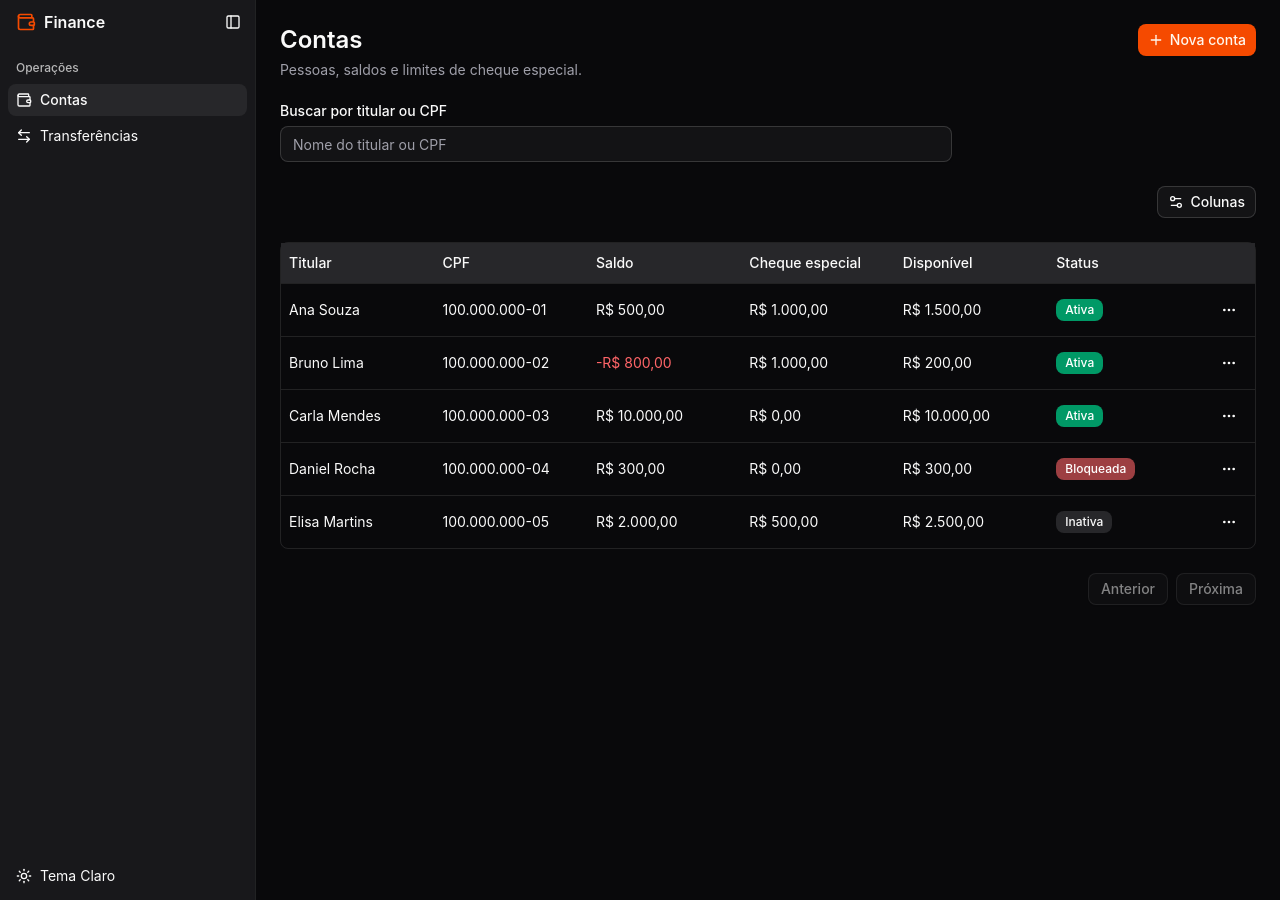
Scenario: Accounts page › shows the API message when the document already exists
Expected: the row "Ana Souza" is shown, [281,283,1255,336]
Click the button "Nova conta" at (1197, 40), box [1138,24,1256,56]
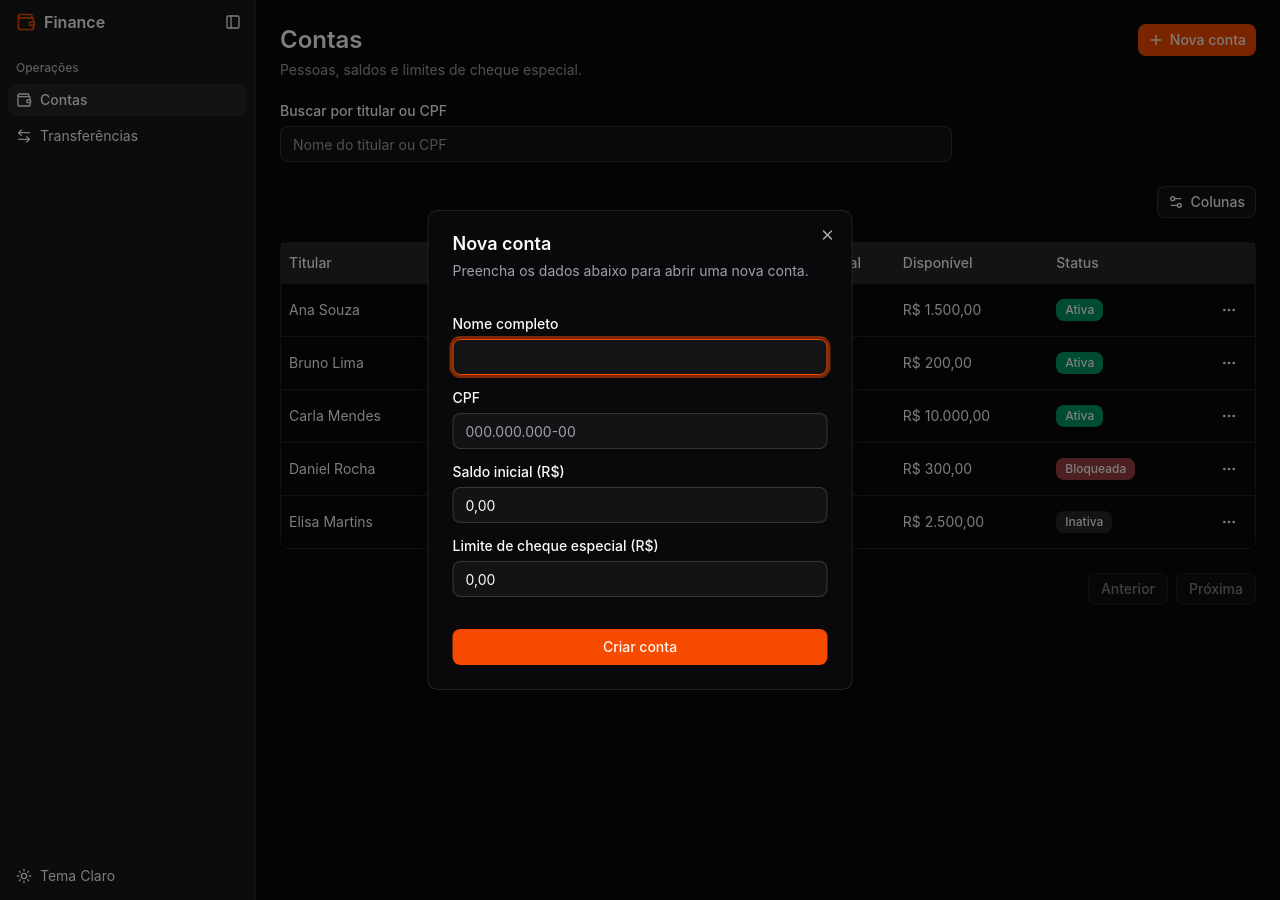
Now the field labelled "Nome completo" is shown
Type "Outra Ana Souza" into the field labelled "Nome completo" at (640, 357), box [452,339,828,375]
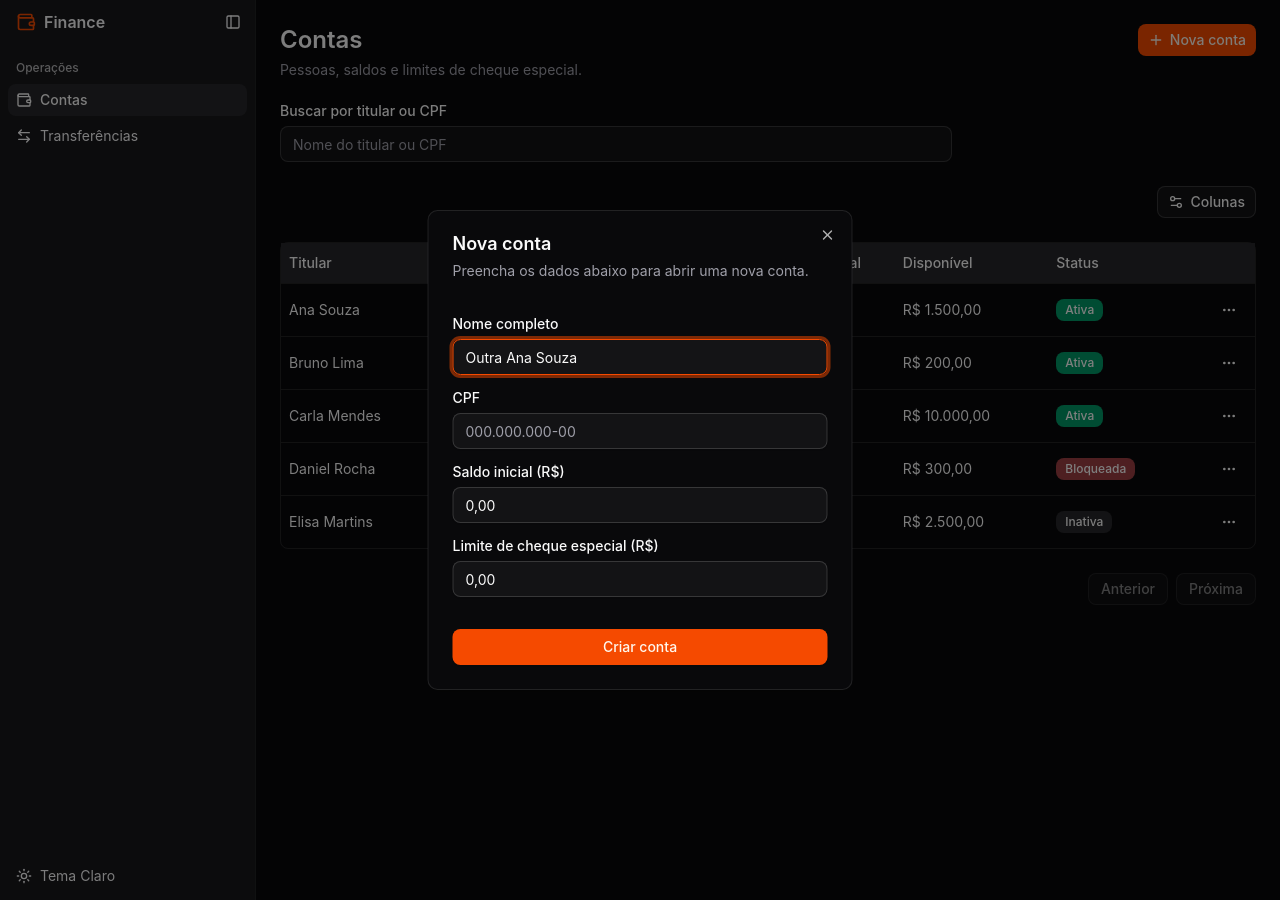
Type "10000000001" into the field labelled "CPF" at (640, 431), box [452,413,828,449]
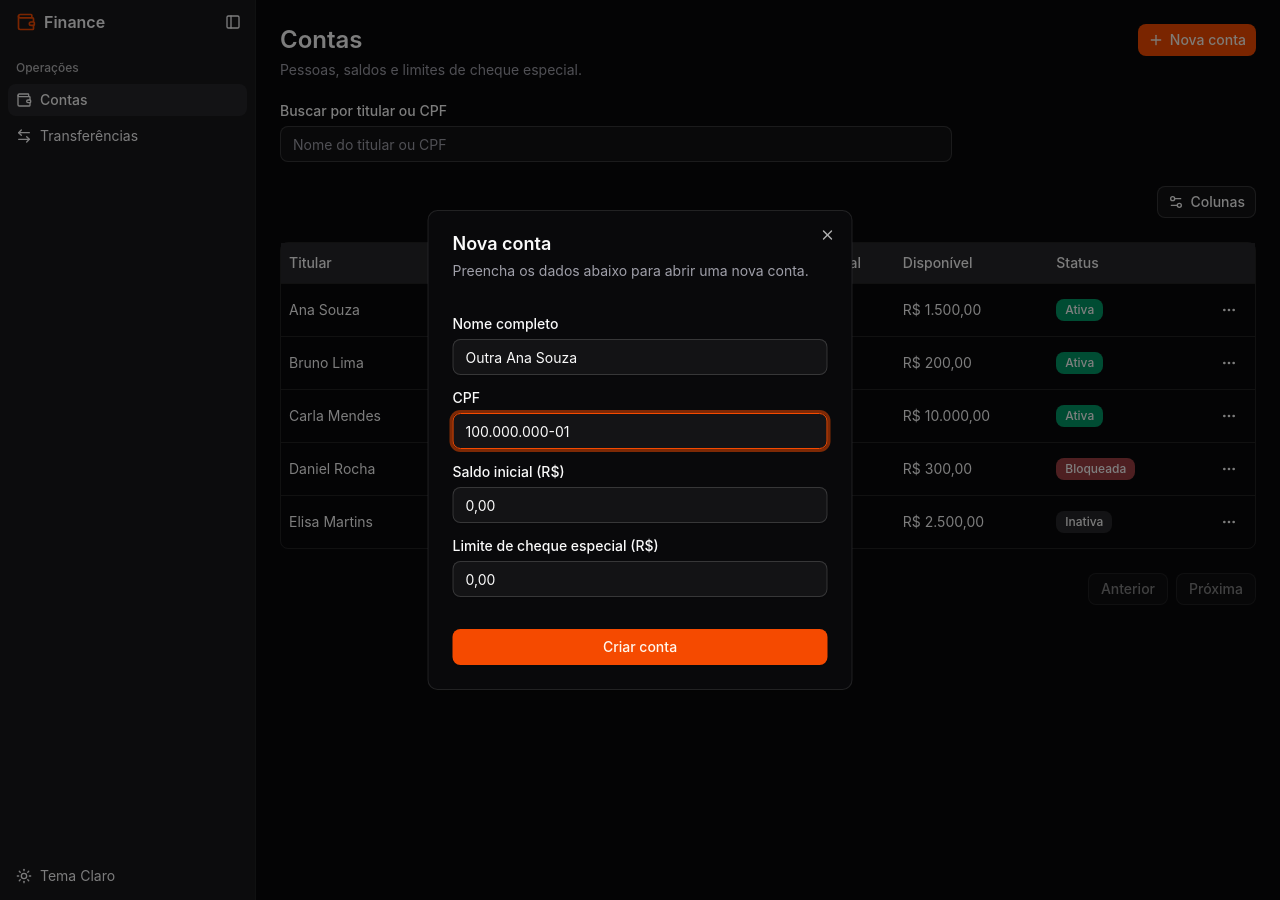
Click the button "Criar conta" at (640, 647), box [452,629,828,665]
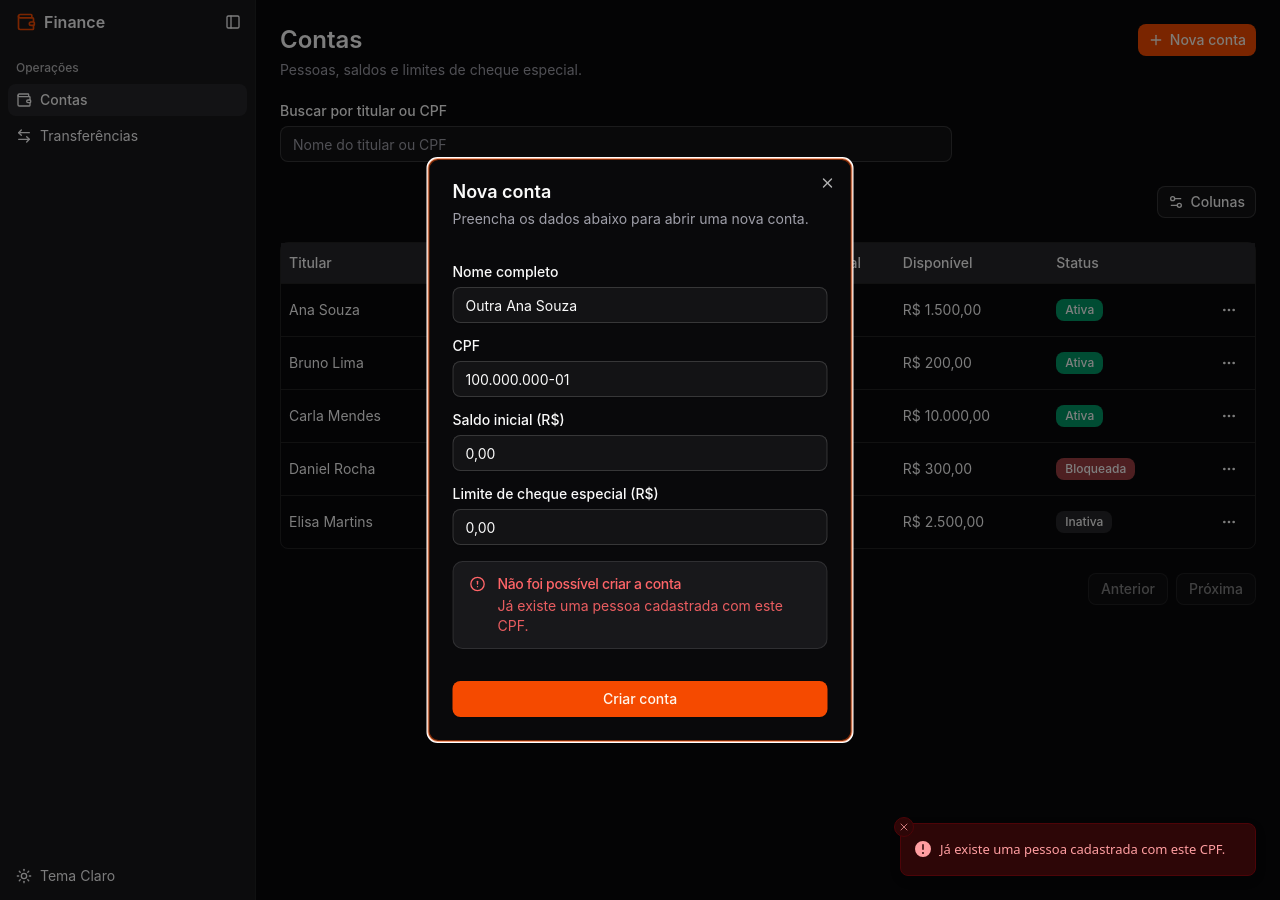
Now the message shows "Já existe uma pessoa cadastrada com este CPF.", box [498,597,783,634]
